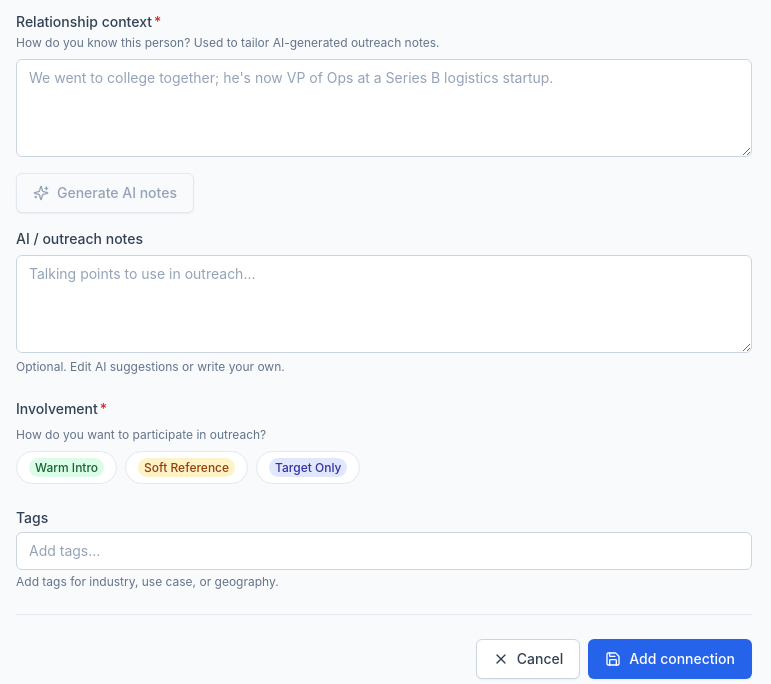
Test: <AddEditConnectionForm /> › Create mode - validation (F-001) › shows multiple inline errors after submitting an empty form
This screenshot has width=771, height=684.
(page scrolled)
Click the button with test id "form-submit-button": (670, 659) [588,639,752,679]
(page scrolled)
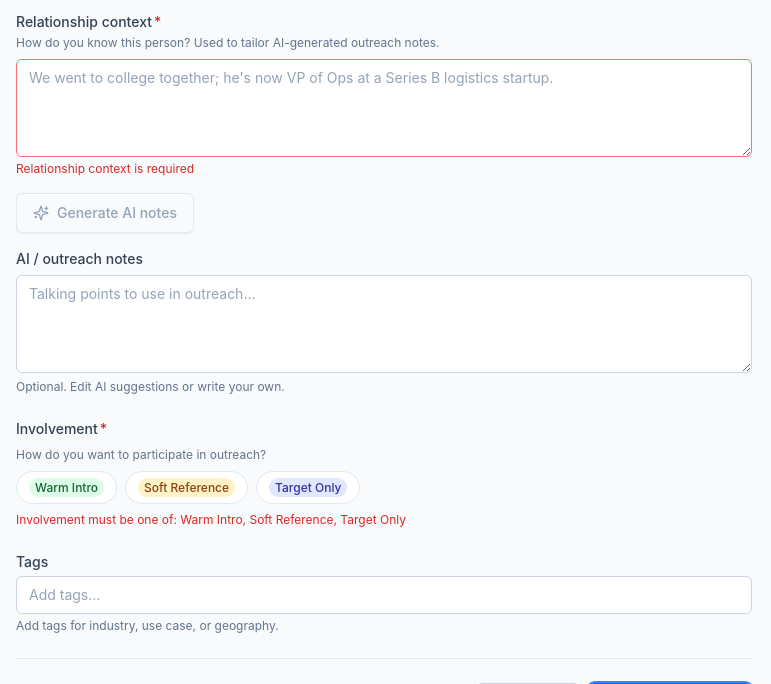
Expected: the text "Relationship context is required" is shown, [16,161,194,176]
Expected: the text "Involvement must be one of: Warm Intro, Soft Reference, Target Only" is shown, [16,512,406,527]
